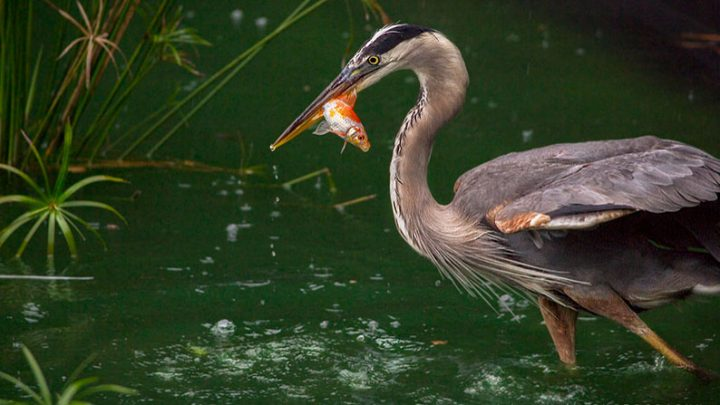heron: (262, 18, 720, 372)
